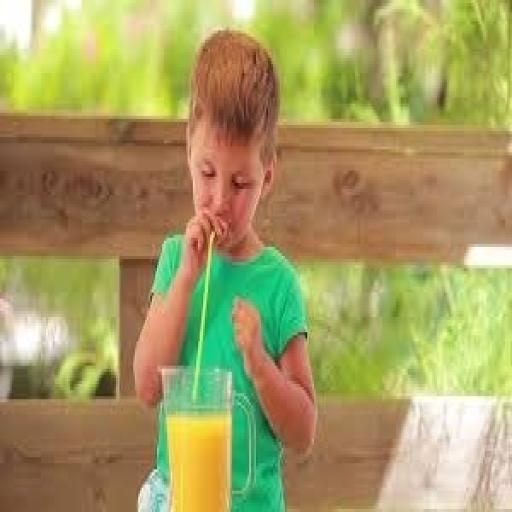drinking: (159, 363, 232, 509)
